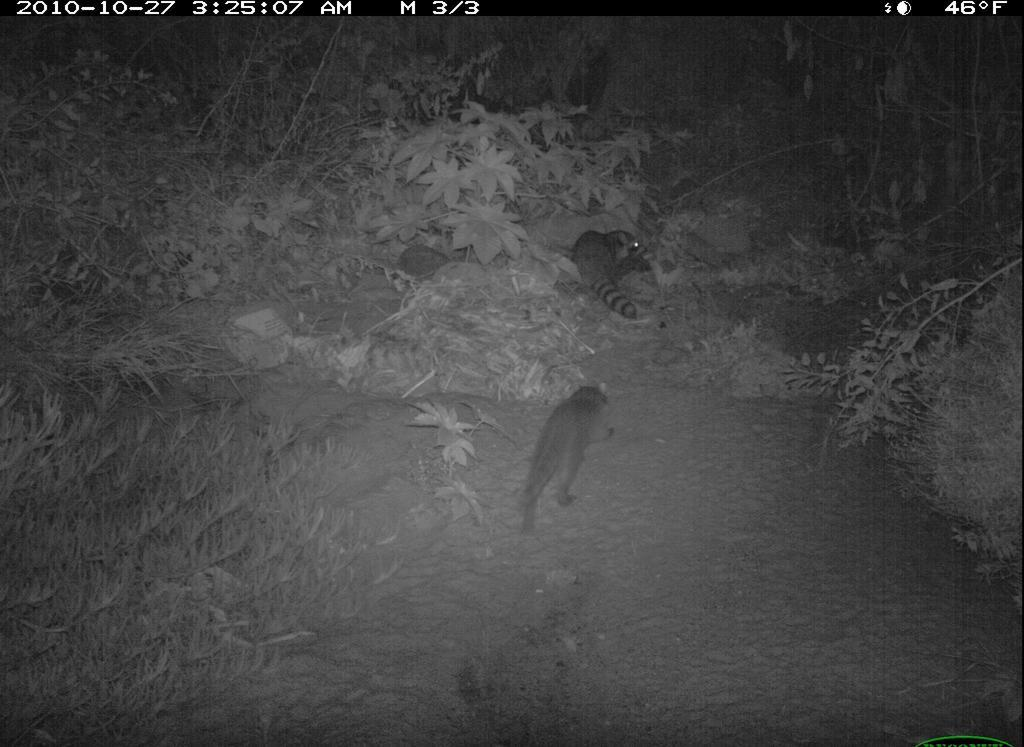raccoon: (496, 374, 624, 550), (568, 205, 665, 327)
